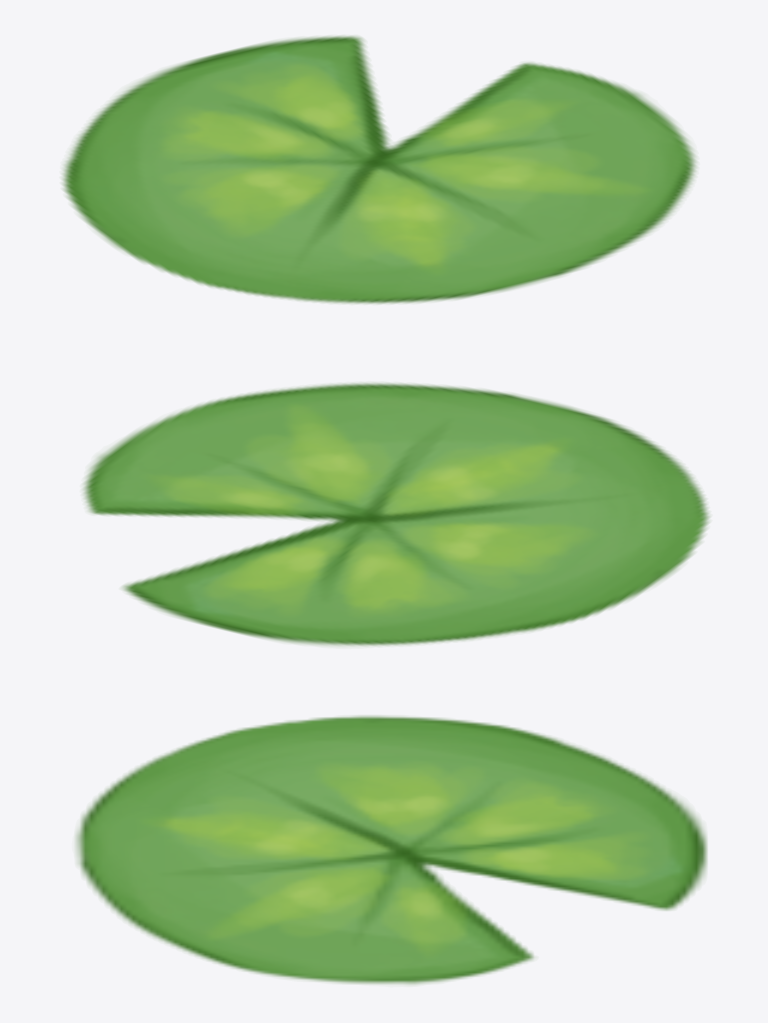
The model's file is lotusleaf.glb.
3 renders of one model, top to bottom at view 1: azimuth 30°, elevation 25°; view 2: azimuth 150°, elevation 25°; view 3: azimuth 270°, elevation 25°, orthographic.
Visible parts, largest first — view 1: lotusleaf; view 2: lotusleaf; view 3: lotusleaf.
Boxes of the visible parts, x1=… form: lotusleaf: x1=62, y1=36, x2=696, y2=303; lotusleaf: x1=83, y1=383, x2=709, y2=645; lotusleaf: x1=76, y1=716, x2=707, y2=984.
Bounding box in the file's own units: 0.427 × 9.48e-17 × 0.427.
1 material, 1 textured.
